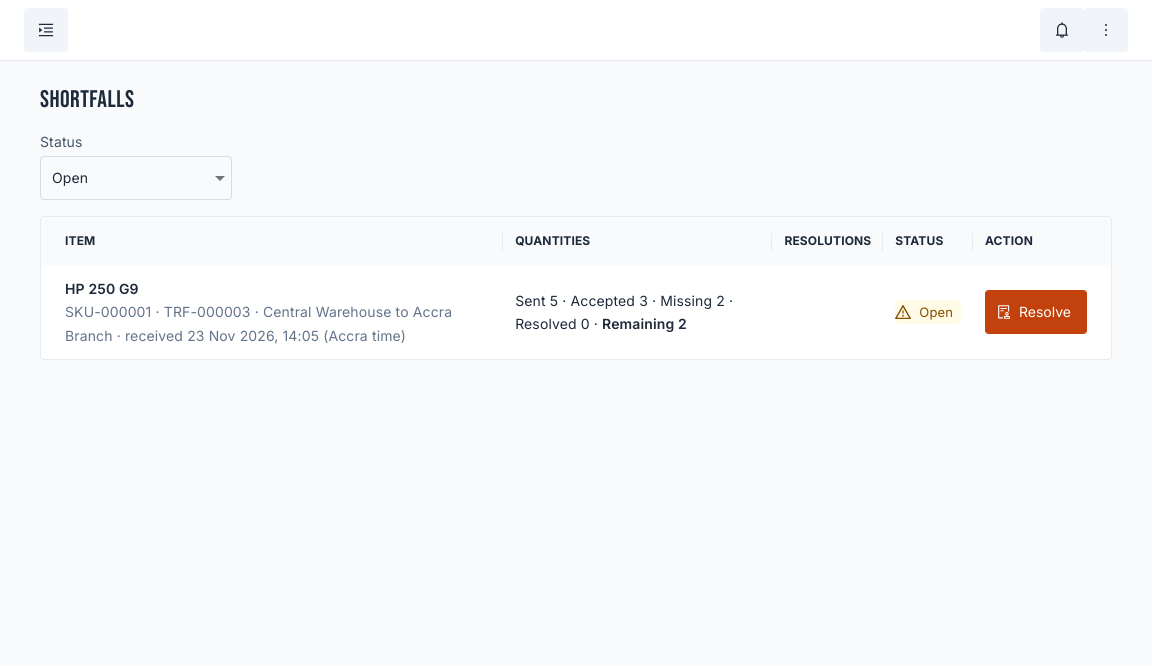
Test: shortfalls screen › asks for a resolution, a whole quantity and a note before sending anything
Click the button with aria-label "Resolve shortfall of HP 250 G9" at (1036, 312), box [985,290,1087,334]
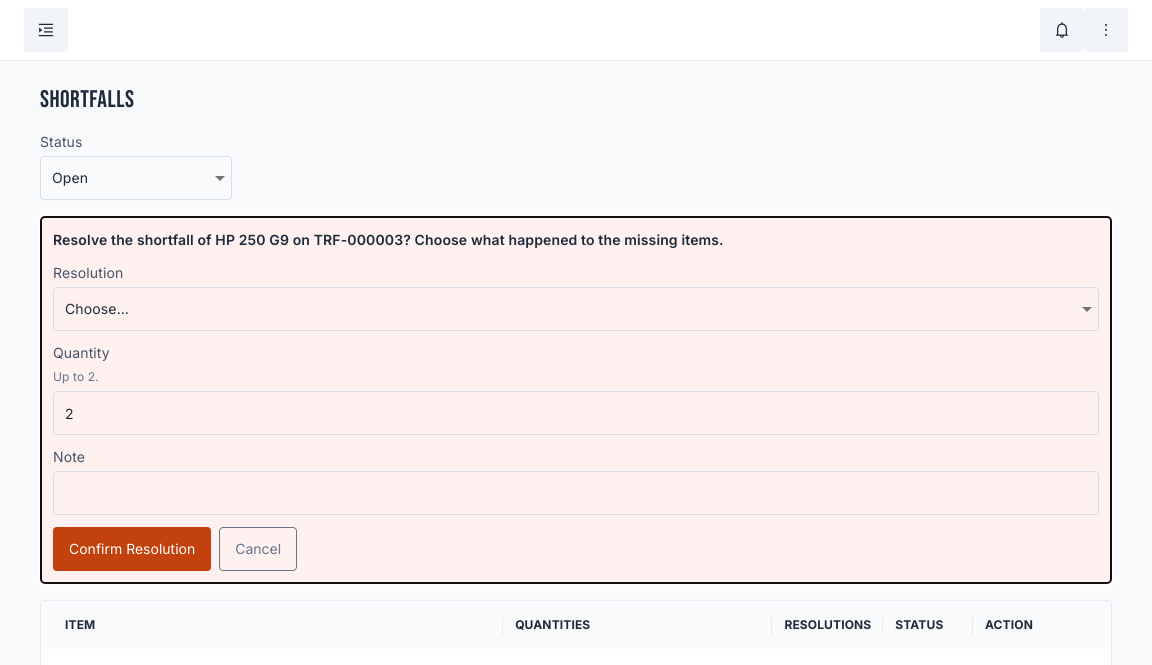
Replace the text in the field labelled "Quantity" with "0" at (576, 413), box [53,391,1099,435]
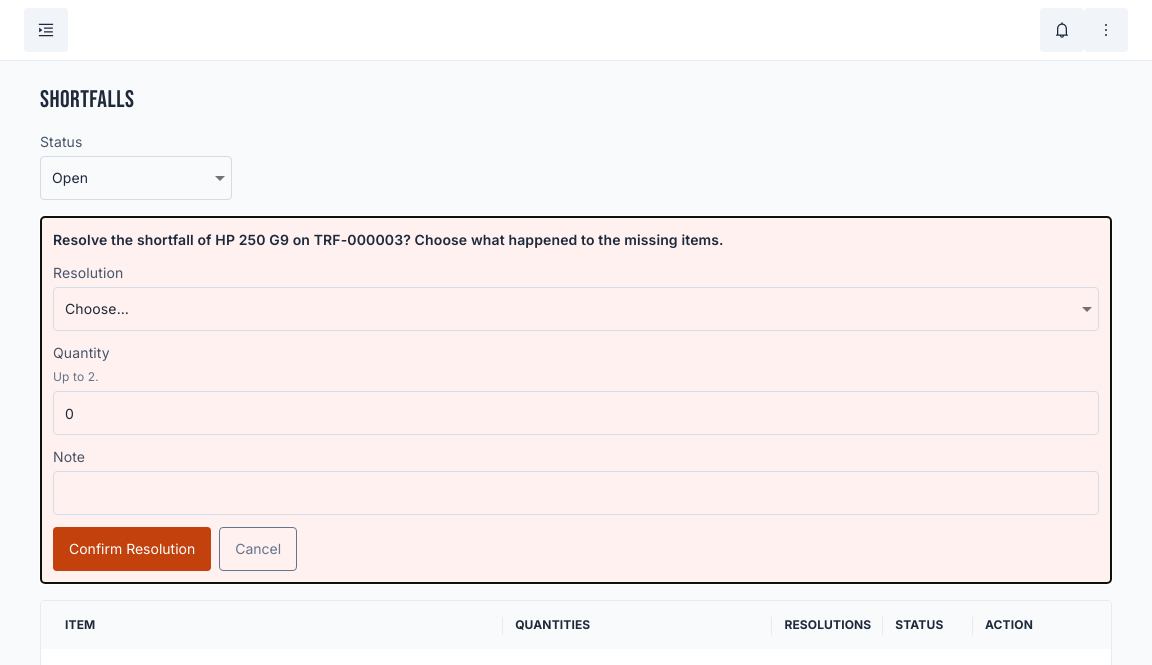
Click the button "Confirm resolution" at (132, 549), box [53,527,211,571]
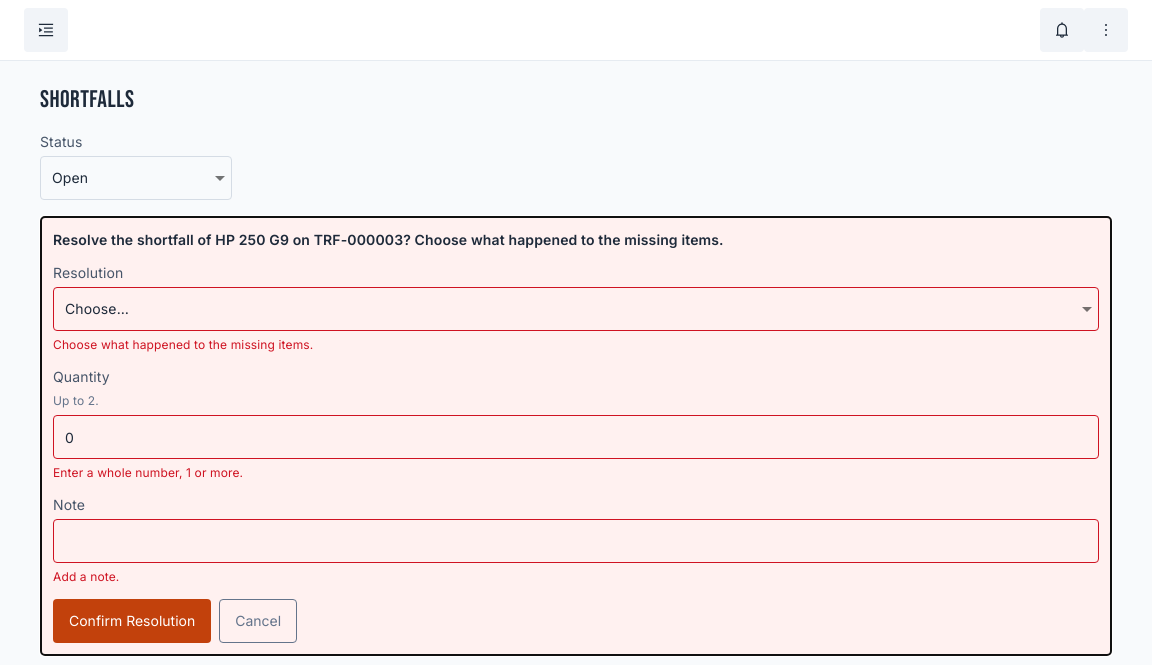
Expected: the text "Choose what happened to the missing items." is shown, [53,337,313,352]
Expected: the text "Enter a whole number, 1 or more." is shown, [53,465,243,480]
Expected: the text "Add a note." is shown, [53,569,120,584]
